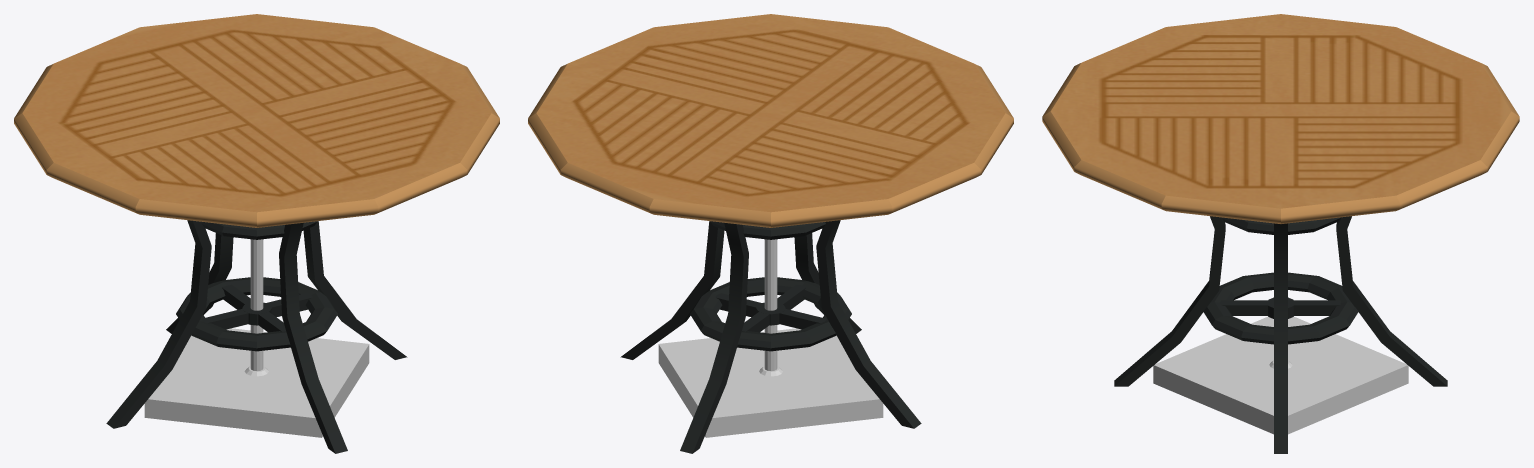
The model's file is T_roundTable.fbx.
3 renders of one model, left to right at view 1: azimuth 30°, elevation 25°; view 2: azimuth 150°, elevation 25°; view 3: azimuth 270°, elevation 25°, orthographic.
Visible parts, largest first — view 1: roundTable; view 2: roundTable; view 3: roundTable.
Part boxes in pixels (x1,y1,x2,y2): roundTable: (14,14,499,453); roundTable: (528,14,1013,453); roundTable: (1042,14,1519,453).
Bounding box in the file's own units: 0.799 × 0.5029 × 0.799.
1 material, 1 textured.
